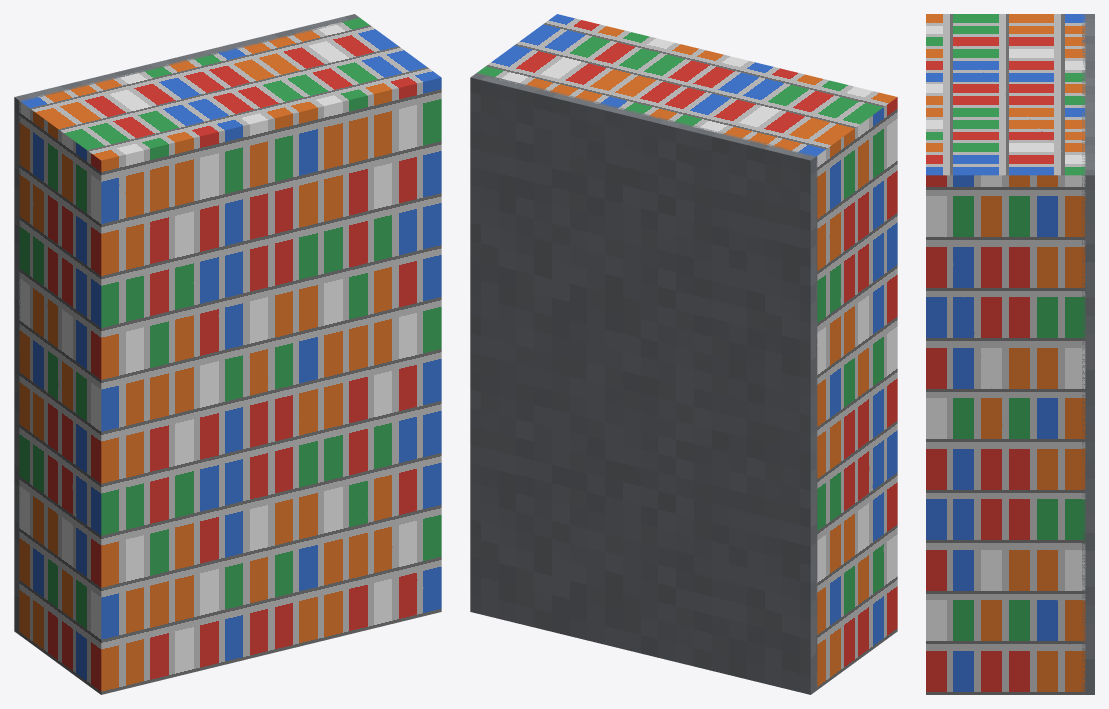
The model's file is env_shelf_unit.glb.
The picture shows the model from 3 angles, left to right: view 1: azimuth 30°, elevation 25°; view 2: azimuth 150°, elevation 25°; view 3: azimuth 270°, elevation 25°; orthographic projection. The views are drawn at different scales.
Visible parts, largest first — view 1: env_shelf_unit; view 2: env_shelf_unit; view 3: env_shelf_unit.
Part boxes in pixels (left/top/right/bottom): env_shelf_unit: left=14, top=14, right=441, bottom=694; env_shelf_unit: left=470, top=14, right=897, bottom=694; env_shelf_unit: left=926, top=14, right=1094, bottom=694.
Size of the model in its own units: 1.2 by 1.8 by 0.53.
2 materials, 2 textured.
